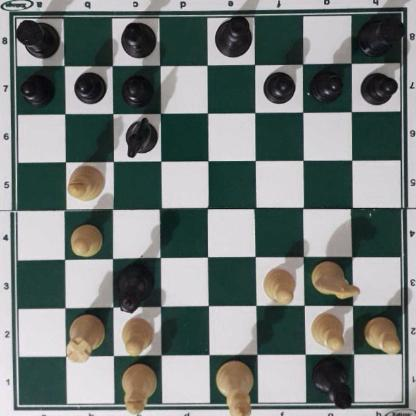black-bishop: (311, 357, 354, 409), (117, 21, 158, 58)
black-king: (212, 14, 253, 57)
black-knight: (122, 116, 158, 158)
black-pawn: (360, 69, 396, 105), (262, 68, 295, 102), (20, 72, 54, 104), (311, 67, 343, 101), (73, 70, 104, 104), (121, 72, 152, 106)
black-queen: (115, 261, 155, 316)
black-rook: (355, 15, 406, 57), (13, 16, 60, 58)
white-bishop: (121, 361, 156, 414), (66, 165, 105, 201)
white-knight: (310, 259, 361, 299)
white-pawn: (309, 310, 347, 351), (119, 316, 154, 356), (363, 315, 400, 352), (262, 266, 295, 303), (68, 224, 103, 257)
white-queen: (215, 360, 254, 416)
white-rook: (66, 312, 106, 361)
